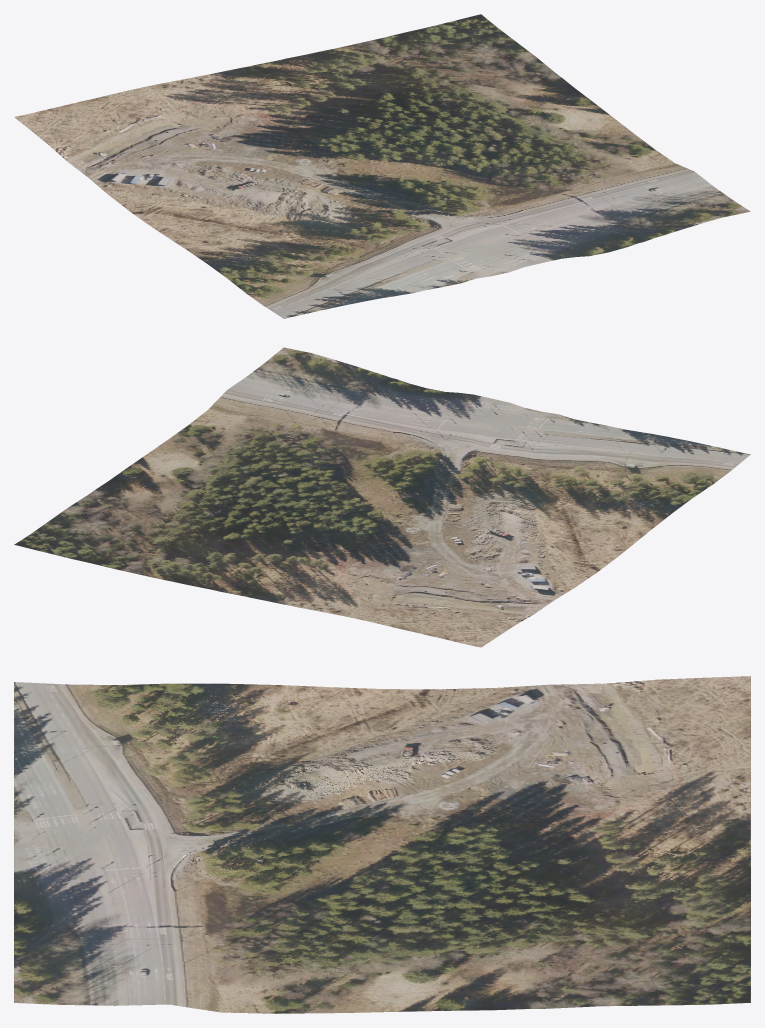
The model's file is CM_Terrain_24491073_6821841.fbx.
3 views of the same model, one above another, from view 1: azimuth 30°, elevation 25°; view 2: azimuth 150°, elevation 25°; view 3: azimuth 270°, elevation 25° (orthographic). The views are drawn at different scales.
Visible parts, largest first — view 1: CM_Terrain_24491073_6821841_LOD0; view 2: CM_Terrain_24491073_6821841_LOD0; view 3: CM_Terrain_24491073_6821841_LOD0.
Boxes of the visible parts, x1=… form: CM_Terrain_24491073_6821841_LOD0: x1=14, y1=14, x2=750, y2=318; CM_Terrain_24491073_6821841_LOD0: x1=14, y1=347, x2=750, y2=647; CM_Terrain_24491073_6821841_LOD0: x1=14, y1=676, x2=750, y2=1013.
Size of what is drawn, in the model's own units: 205 by 8.13 by 205.
